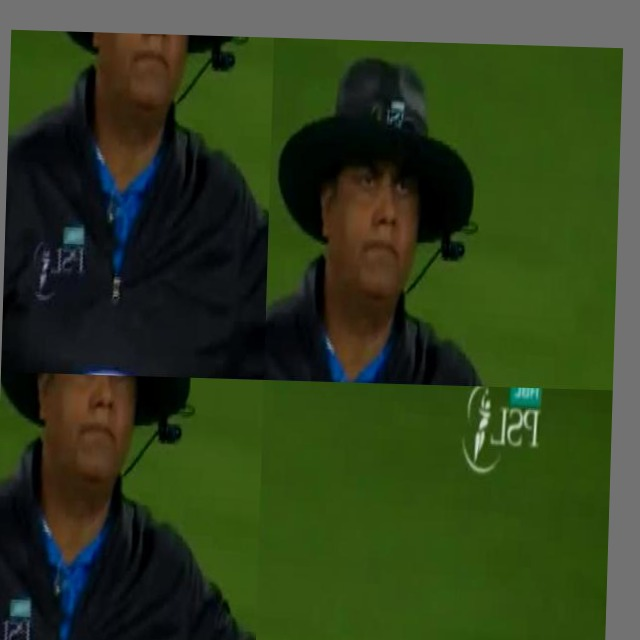No_Ball: (256, 423, 611, 640)
Wide: (507, 61, 623, 390)
